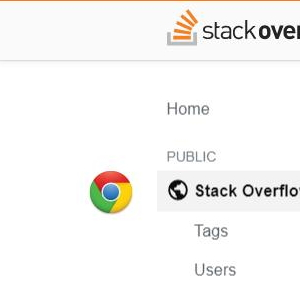chrome: (88, 170, 133, 214)
